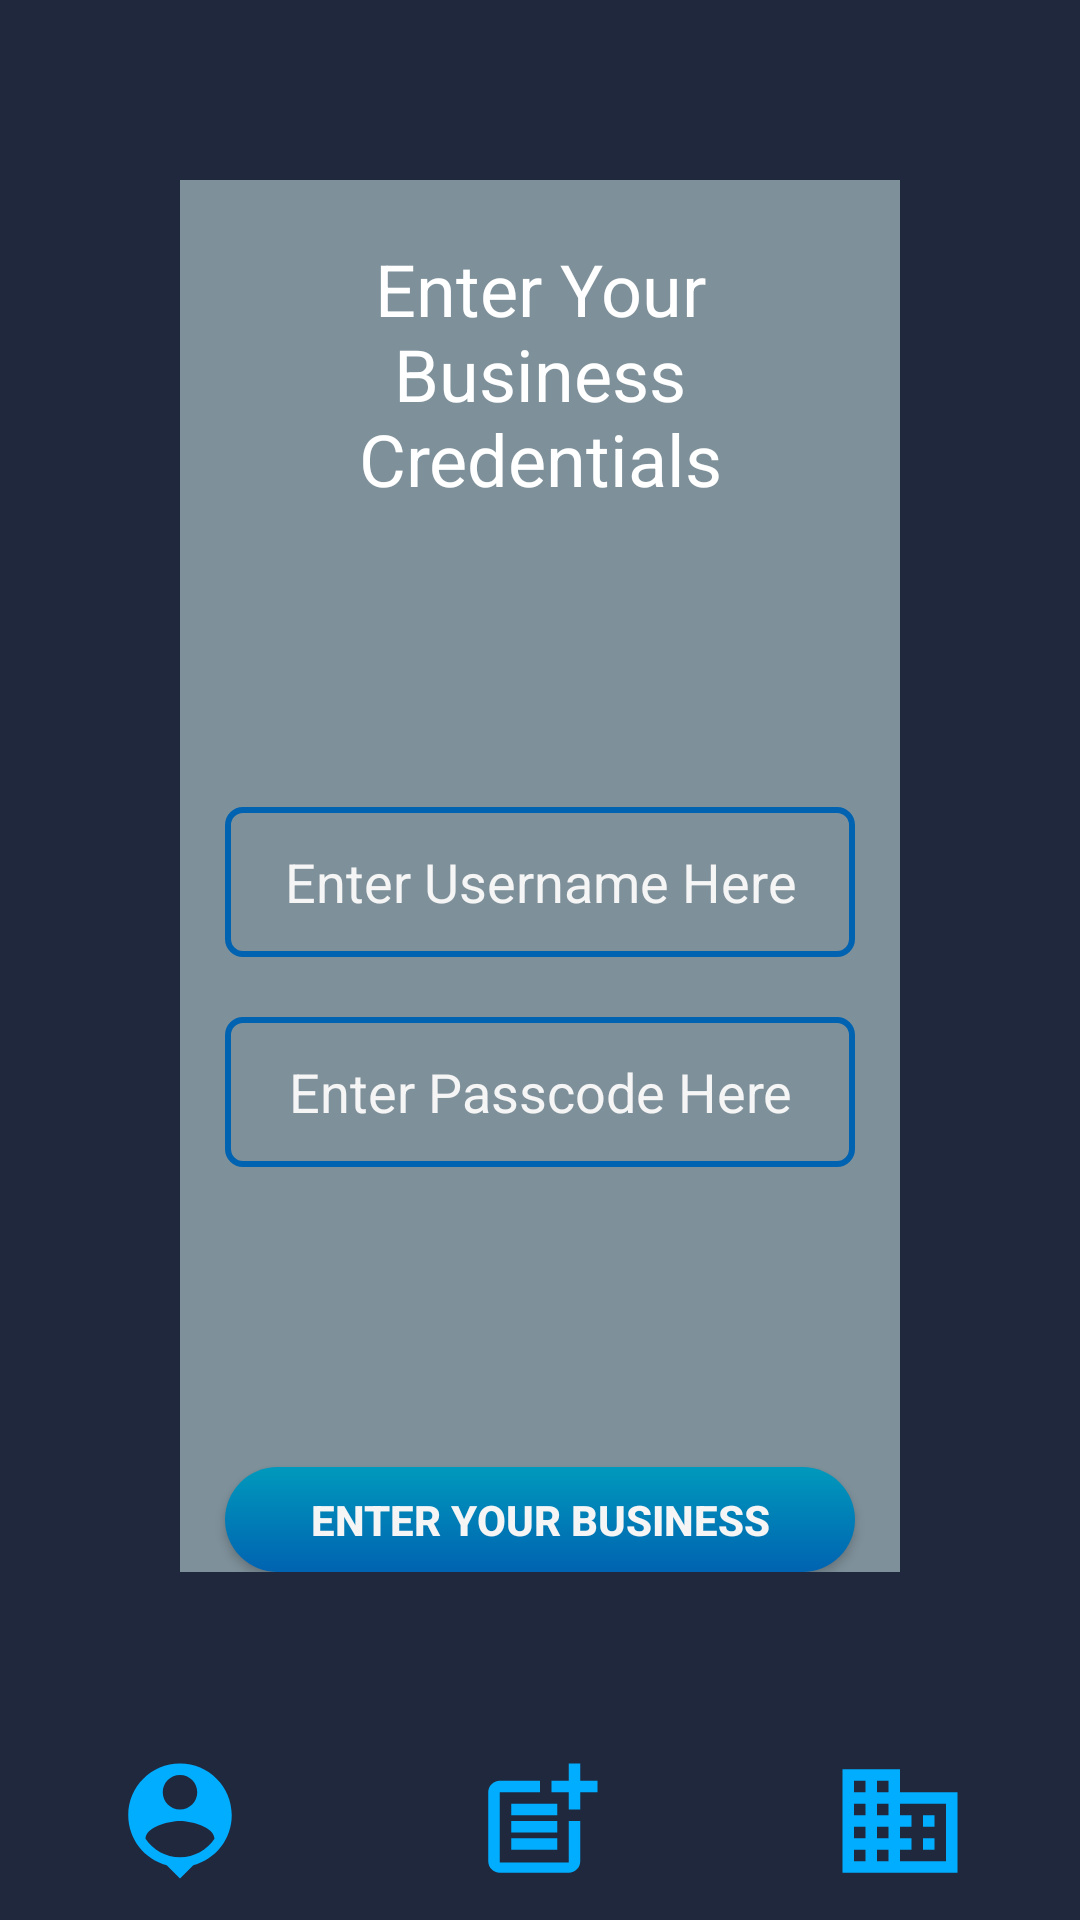

Named icons in this screenshot (1080px×1920px) and their centers, (x=x, y=y):
Booking Page ImageView: (x=543, y=1818)
Business Needs ImageView: (x=900, y=1821)
Personal Page Image: (x=180, y=1821)
